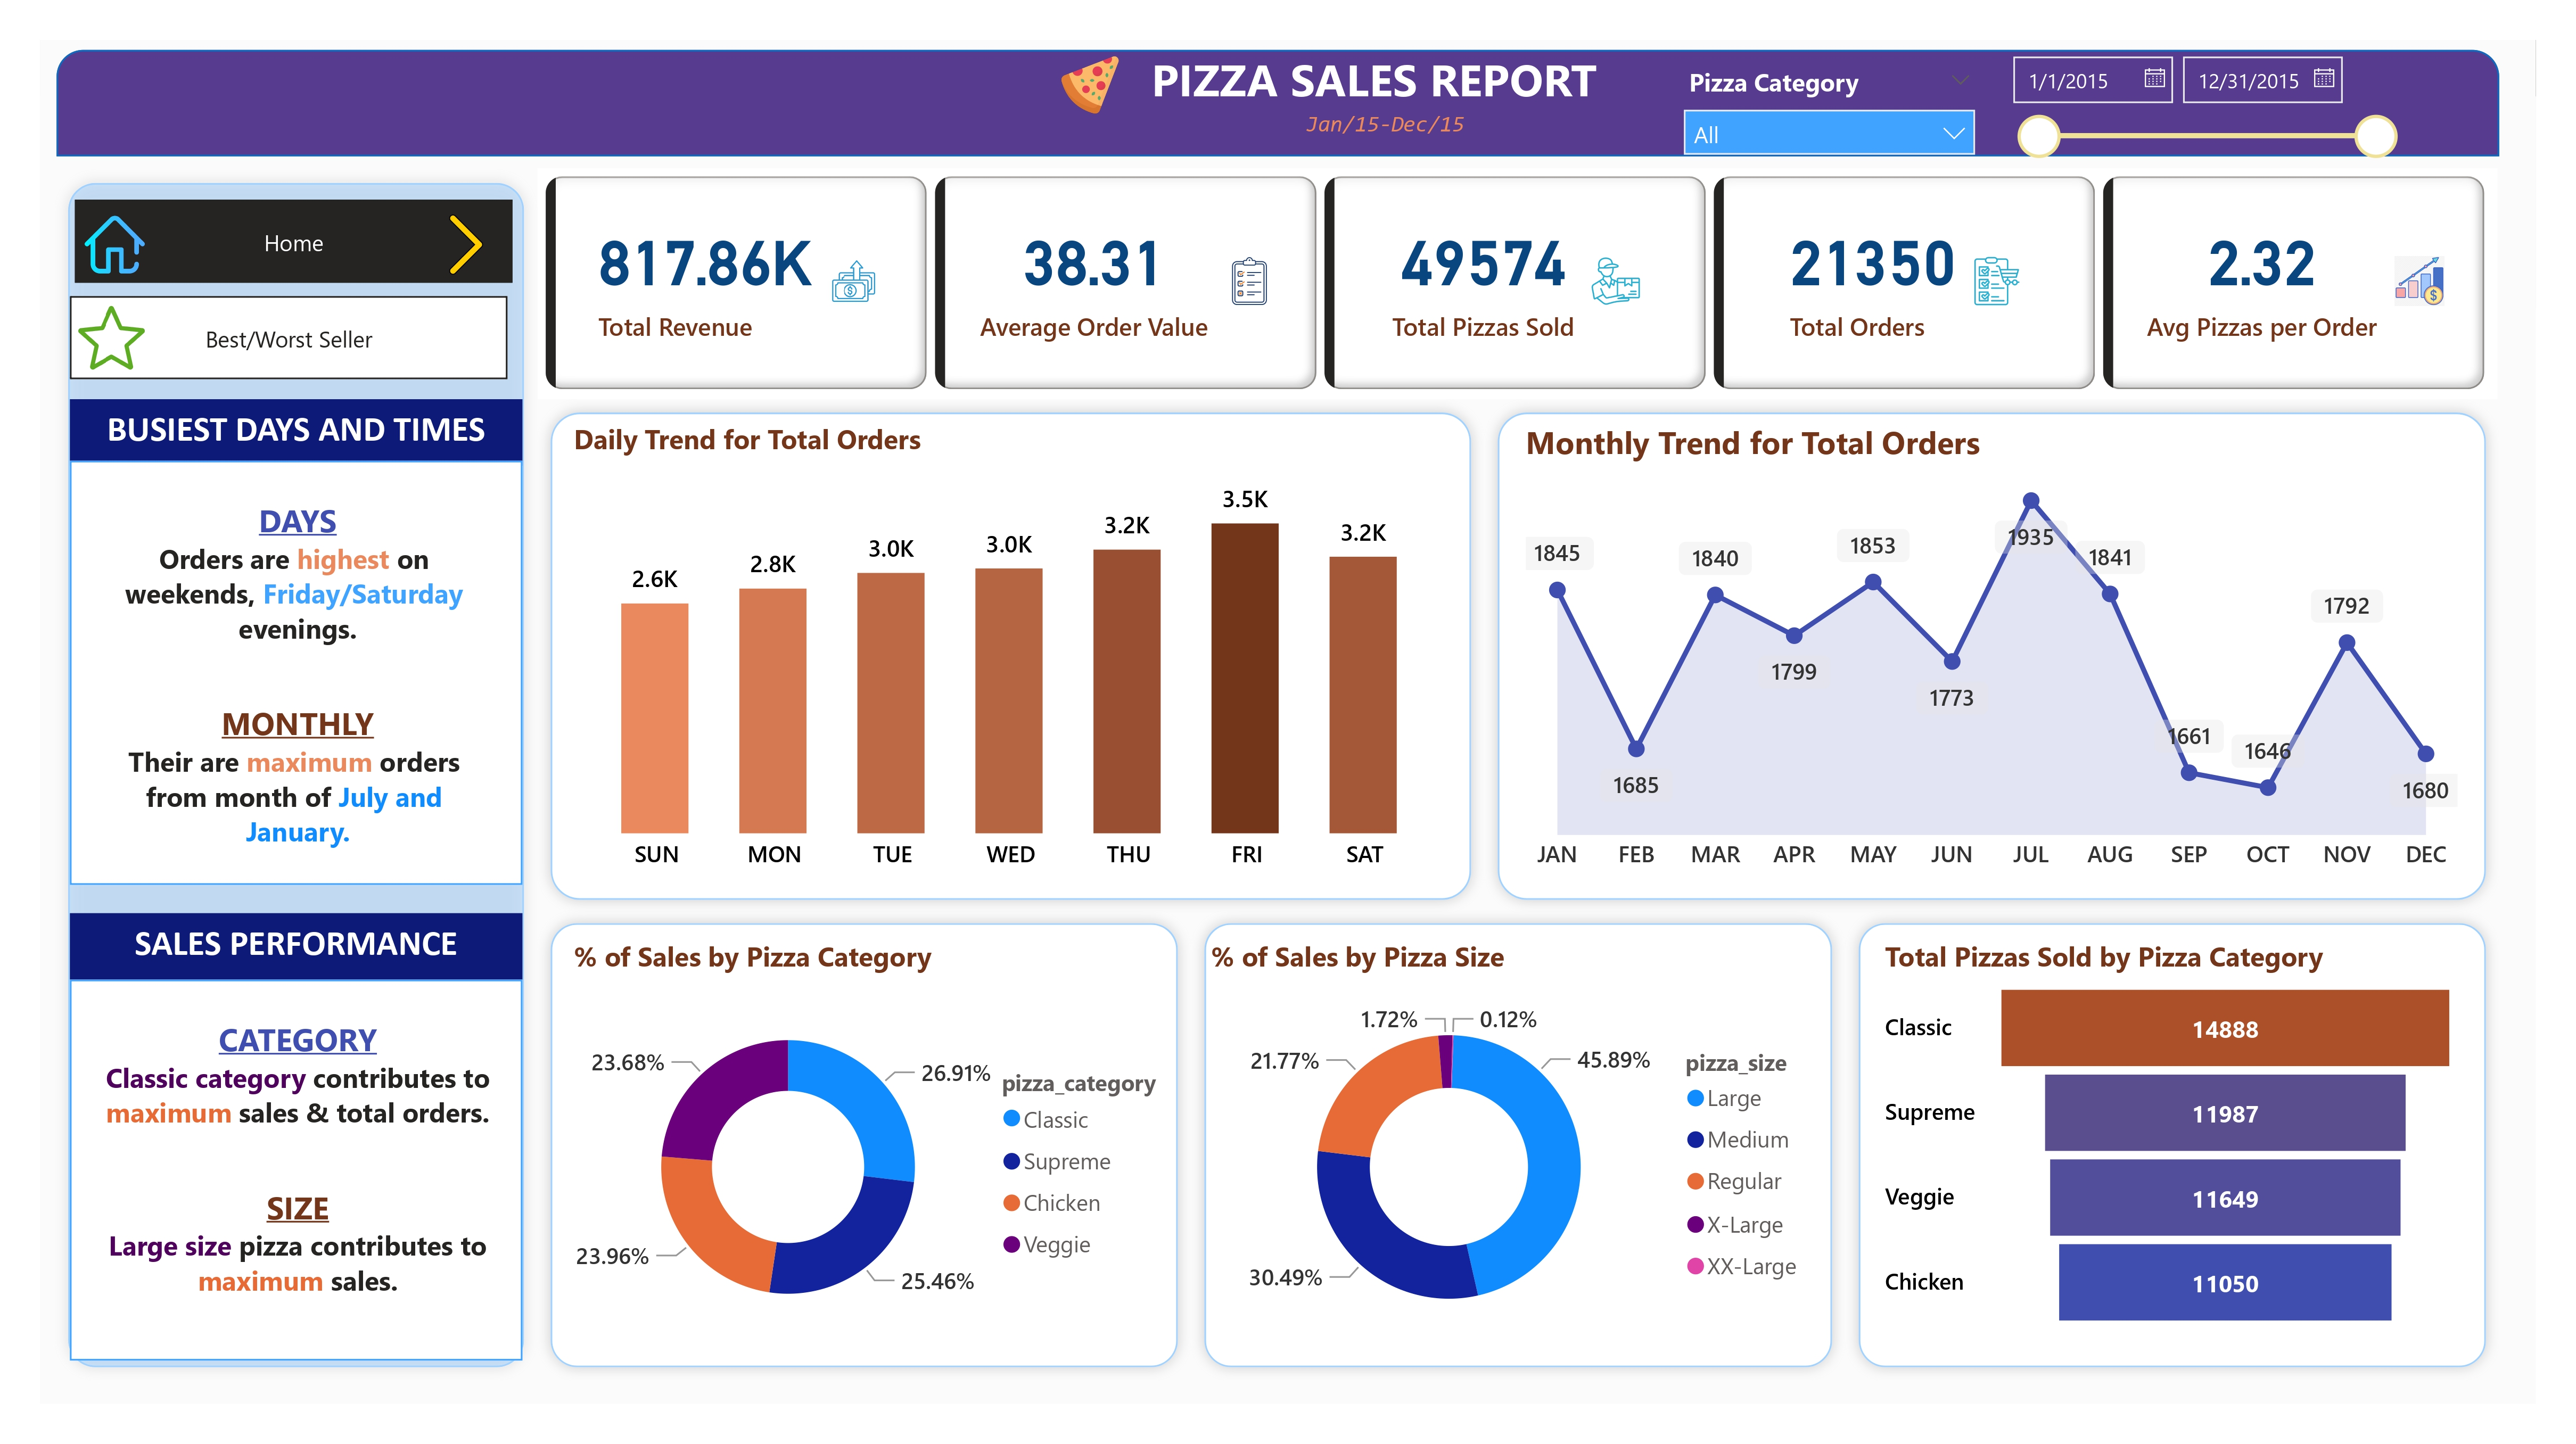

Layout of this report page (visuals, bound fields, positions):
{"tool":"powerbi","page":{"name":"Home","canvas":[1500,820],"ordinal":0},"visuals":[{"type":"cardVisual","fields":{"Data":["pizza pizza_sales.Total Revenue","pizza pizza_sales.Average Order Value","pizza pizza_sales.Total Pizzas Sold","pizza pizza_sales.Total Orders","pizza pizza_sales.Avg Pizzas per Order"]},"box":[299.3,76.9,1177.3,138.8],"z":0},{"type":"shape","box":[10,6.2,1467.5,63.8],"z":1000},{"type":"textbox","box":[631.4,0,341.4,45.7],"z":2000},{"type":"textbox","box":[750,35.7,117.1,28.6],"z":3000},{"type":"image","box":[598.6,4.3,64.3,45.7],"z":4000},{"type":"shape","box":[299.3,215.7,568.6,309.4],"z":5000},{"type":"clusteredColumnChart","title":"Daily Trend for Total Orders","fields":{"Category":["pizza pizza_sales.Order Day"],"Y":["pizza pizza_sales.Total Orders"]},"box":[316.1,229.1,535.1,279.3],"z":6000},{"type":"shape","box":[867.9,215.7,610.4,309.4],"z":7000},{"type":"areaChart","title":"Monthly Trend for Total Orders","fields":{"Category":["pizza pizza_sales.Order Month"],"Y":["pizza pizza_sales.Total Orders"]},"box":[888,229.1,570.2,279.3],"z":8000},{"type":"shape","box":[299.3,523.4,393,282.6],"z":9000},{"type":"shape","box":[692.3,523.4,393,282.6],"z":10000},{"type":"shape","box":[1085.3,523.4,393,282.6],"z":11000},{"type":"donutChart","title":"% of Sales by Pizza Category","fields":{"Category":["pizza pizza_sales.pizza_category"],"Y":["pizza pizza_sales.Total Revenue"]},"box":[316.1,540.1,376.3,254.2],"z":12000},{"type":"shape","box":[8.8,77.5,290,728.8],"z":13000},{"type":"donutChart","title":"% of Sales by Pizza Size","fields":{"Category":["pizza pizza_sales.pizza_size"],"Y":["pizza pizza_sales.Total Revenue"]},"box":[698.6,539.6,375.6,254.2],"z":14000},{"type":"funnel","title":"Total Pizzas Sold by Pizza Category","fields":{"Y":["pizza pizza_sales.Total Pizzas Sold"],"Category":["pizza pizza_sales.pizza_category"]},"box":[1103.8,540,353.8,240],"z":15000},{"type":"textbox","box":[17.5,216.2,272.5,40],"z":16000},{"type":"textbox","box":[17.5,252.5,272.5,255],"z":17000},{"type":"textbox","box":[17.5,525,272.5,40],"z":18000},{"type":"textbox","box":[17.5,565,272.5,228.8],"z":19000},{"type":"slicer","fields":{"Values":["pizza pizza_sales.pizza_category"]},"box":[977.5,10,195,60],"z":20000},{"type":"slicer","fields":{"Values":["pizza pizza_sales.order_date"]},"box":[1172.5,0,252.5,77.5],"z":21000},{"type":"pageNavigator","box":[21.2,96.2,263.8,50],"z":22000},{"type":"pageNavigator","box":[17.5,153.8,263.8,50],"z":23000},{"type":"image","box":[231.2,100,50,46.2],"z":24000},{"type":"image","box":[21.2,100,46.2,46.2],"z":25000},{"type":"image","box":[17.5,153.8,50,50],"z":26000}]}

Visuals, with their boxes in screenshot pixels (x1, y1, x2, y2):
cardVisual - pizza pizza_sales.Total Revenue x pizza pizza_sales.Average Order Value: x1=538, y1=168, x2=2497, y2=399
shape: x1=56, y1=50, x2=2499, y2=156
textbox: x1=1091, y1=40, x2=1659, y2=116
textbox: x1=1288, y1=100, x2=1483, y2=147
image: x1=1036, y1=47, x2=1143, y2=123
shape: x1=538, y1=399, x2=1484, y2=913
"Daily Trend for Total Orders" clusteredColumnChart: x1=566, y1=421, x2=1456, y2=886
shape: x1=1484, y1=399, x2=2500, y2=913
"Monthly Trend for Total Orders" areaChart: x1=1518, y1=421, x2=2466, y2=886
shape: x1=538, y1=911, x2=1192, y2=1381
shape: x1=1192, y1=911, x2=1846, y2=1381
shape: x1=1846, y1=911, x2=2500, y2=1381
"% of Sales by Pizza Category" donutChart: x1=566, y1=938, x2=1192, y2=1362
shape: x1=55, y1=169, x2=537, y2=1381
"% of Sales by Pizza Size" donutChart: x1=1203, y1=938, x2=1828, y2=1360
"Total Pizzas Sold by Pizza Category" funnel: x1=1877, y1=938, x2=2465, y2=1338
textbox: x1=69, y1=400, x2=523, y2=466
textbox: x1=69, y1=460, x2=523, y2=884
textbox: x1=69, y1=913, x2=523, y2=980
textbox: x1=69, y1=980, x2=523, y2=1360
slicer - pizza pizza_sales.pizza_category: x1=1667, y1=56, x2=1991, y2=156
slicer - pizza pizza_sales.order_date: x1=1991, y1=40, x2=2412, y2=169
pageNavigator: x1=75, y1=200, x2=514, y2=283
pageNavigator: x1=69, y1=296, x2=508, y2=379
image: x1=425, y1=207, x2=508, y2=283
image: x1=75, y1=207, x2=152, y2=283
image: x1=69, y1=296, x2=152, y2=379
